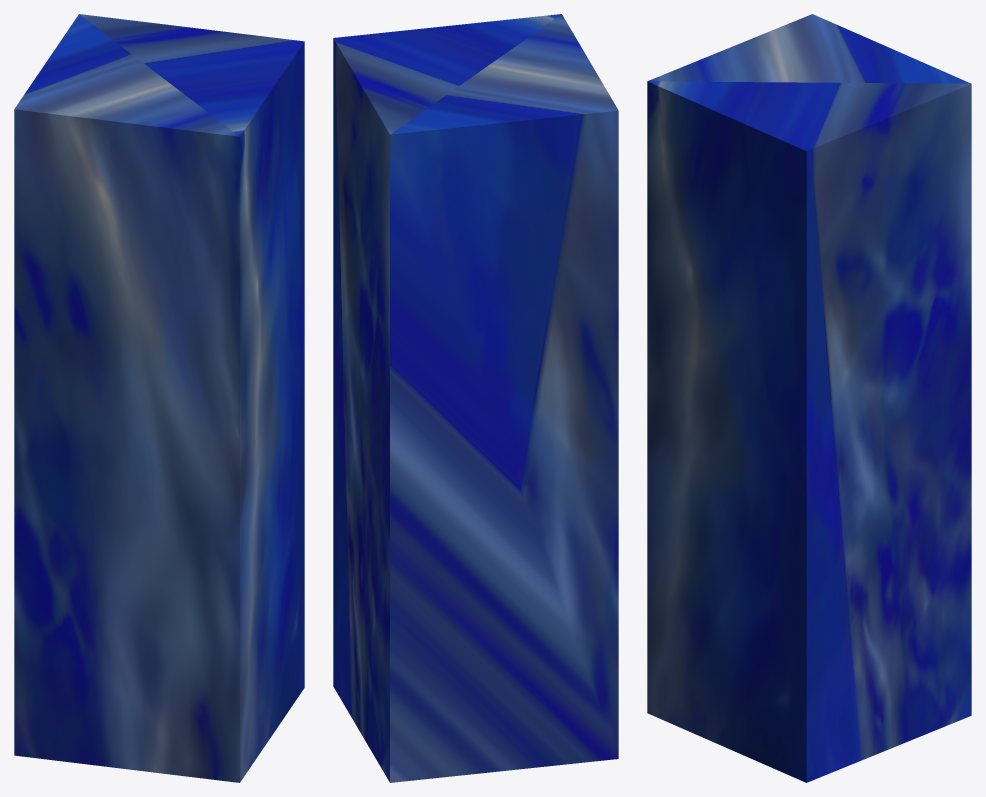
Rendered from BlueBlocks_10.gltf.
The picture shows the model from 3 angles, left to right: view 1: azimuth 30°, elevation 25°; view 2: azimuth 150°, elevation 25°; view 3: azimuth 270°, elevation 25°; orthographic projection. The views are drawn at different scales.
Visible parts, largest first — view 1: BlueBlocks_10; view 2: BlueBlocks_10; view 3: BlueBlocks_10.
Part boxes in pixels (x1,y1,x2,y2): BlueBlocks_10: (14,14,304,782); BlueBlocks_10: (333,14,618,782); BlueBlocks_10: (647,14,971,782).
Bounding box in the file's own units: 6.99 × 15.02 × 6.99.
Materials: 1 (1 with a texture image).
